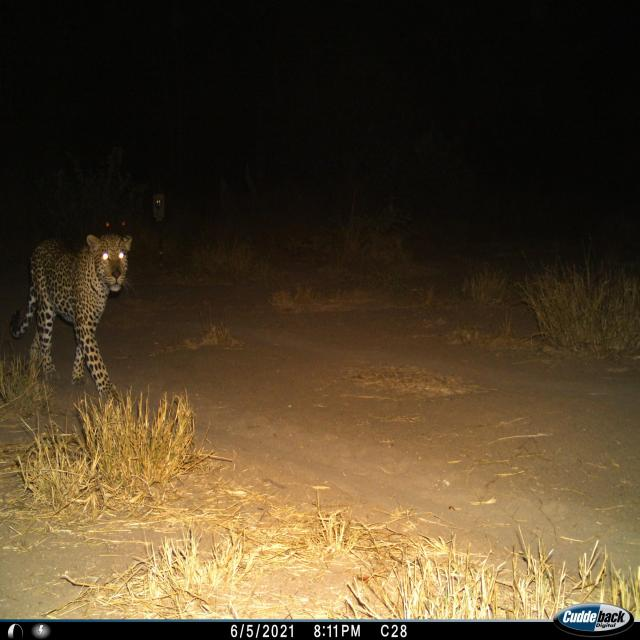Leopard: (13, 205, 138, 420)
